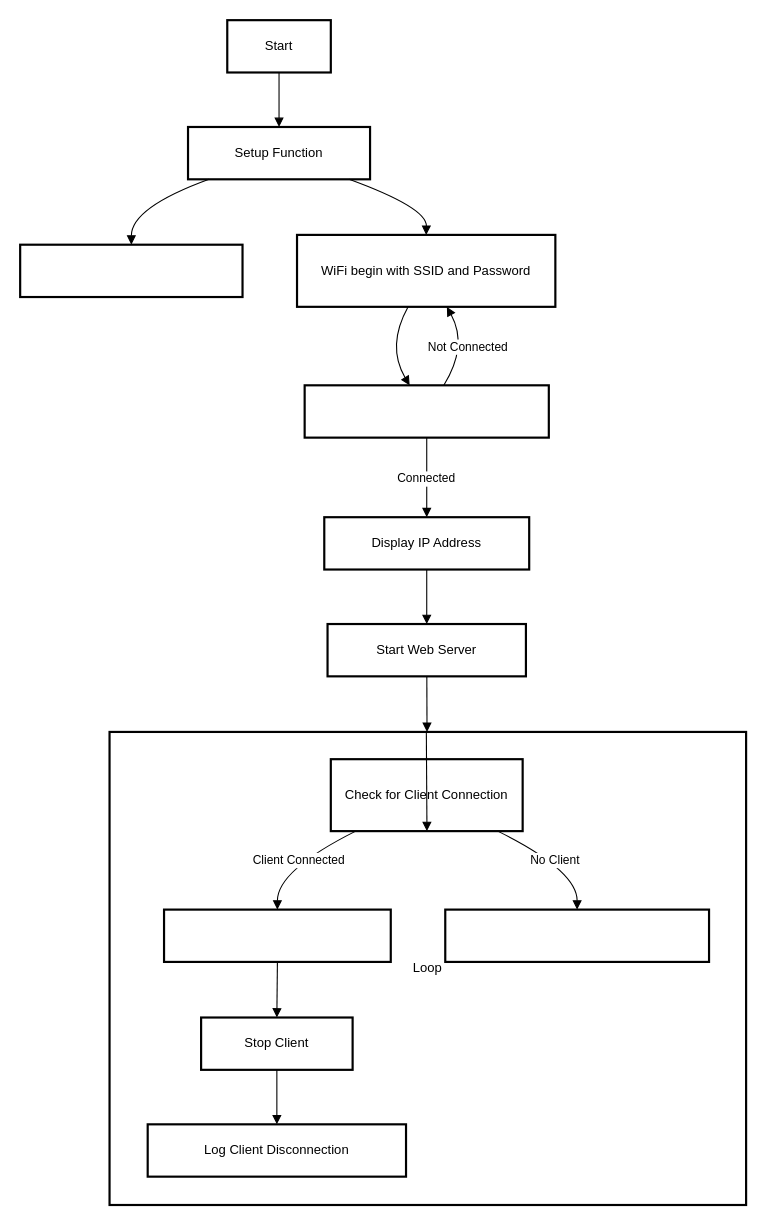
This 765x1224 diagram has some shape labels left out. Each missing label, with the box of its shape:
Begin Serial Monitor: (19, 243, 243, 298)
Check WiFi Connection: (303, 384, 549, 438)
Send HTML Response: (162, 908, 391, 962)
Wait for Next Connection: (444, 908, 710, 962)
